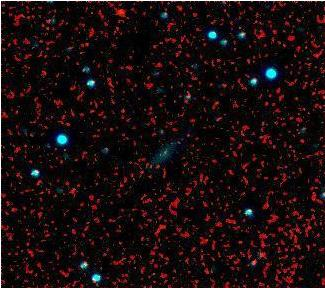star: (104, 0, 134, 29)
